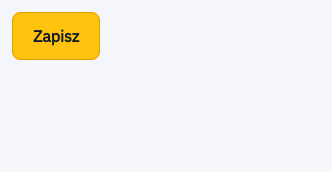
Button loading › keeps focus while loading and ignores presses
Later steps or results of the test are not shown.
Click the button "Zapisz" at (56, 36), box [12,12,100,60]
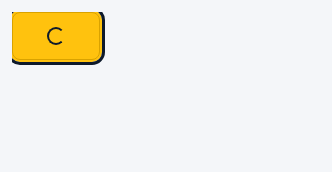
Expected: the button named "Zapisz" is enabled, [12,12,100,60]
